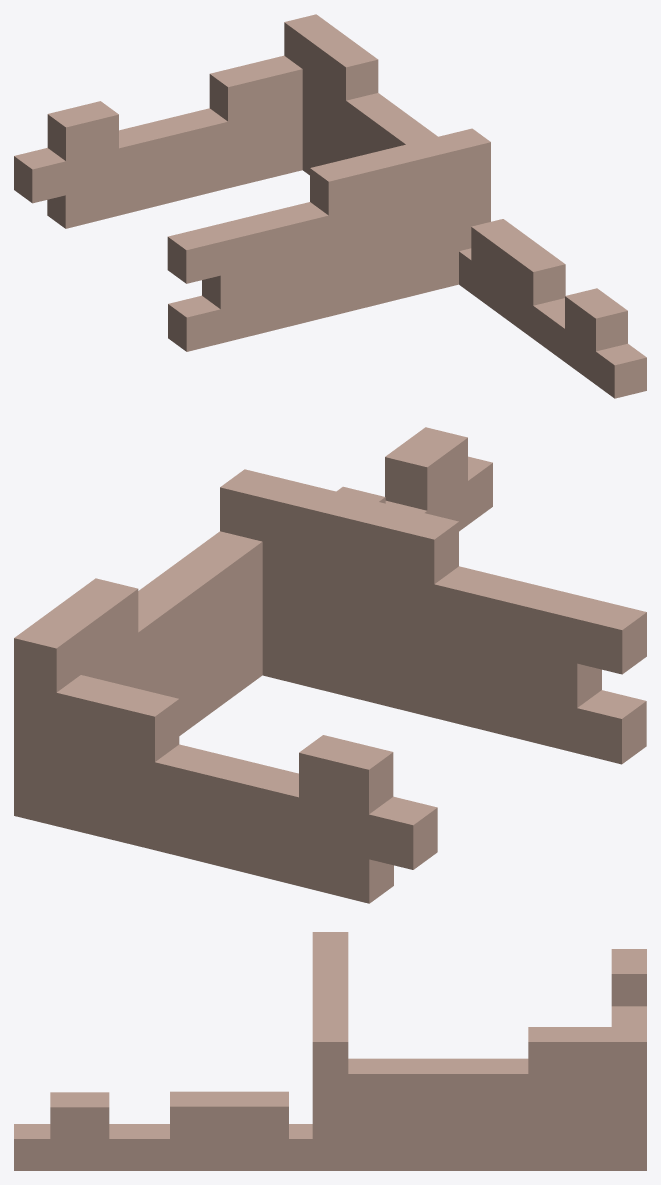
The model's file is sciana_2.obj.
The picture shows the model from 3 angles, top to bottom: view 1: azimuth 30°, elevation 25°; view 2: azimuth 150°, elevation 25°; view 3: azimuth 270°, elevation 25°; orthographic projection. The views are drawn at different scales.
Visible parts, largest first — view 1: lowpoly2; view 2: lowpoly2; view 3: lowpoly2.
Boxes of the visible parts, x1=… form: lowpoly2: x1=14, y1=14, x2=646, y2=398; lowpoly2: x1=14, y1=427, x2=646, y2=903; lowpoly2: x1=14, y1=932, x2=646, y2=1170.
Bounding box in the file's own units: 9.97 × 4.24 × 18.73.
